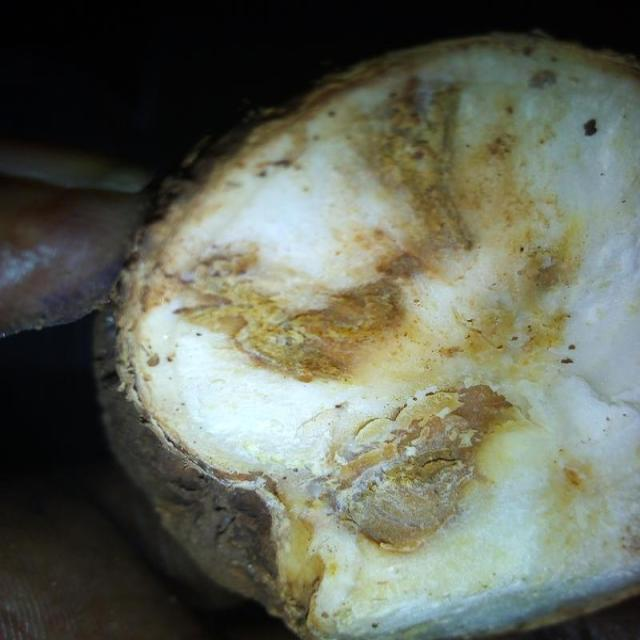cassava leaf: (89, 29, 638, 637)
